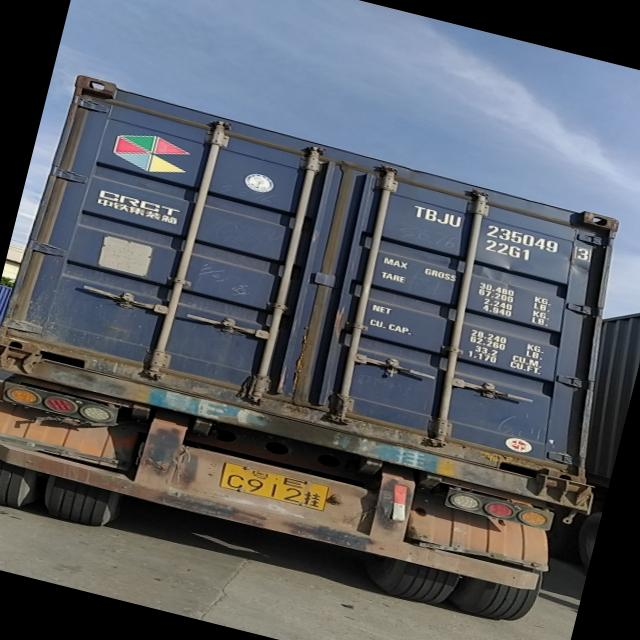seal: (374, 351, 407, 384)
